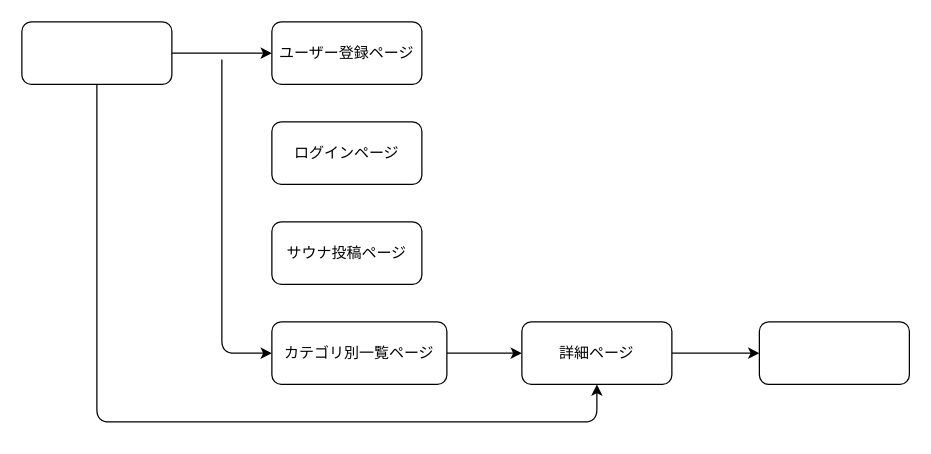
The diagram is 931 pixels wide and 454 high, and some of its shapes have lost their labels. The box of each missing label's shape, as (x1, y1, x2, y2) in pixels:
一覧ページ: (21, 21, 172, 84)
編集ページ: (758, 321, 909, 384)
